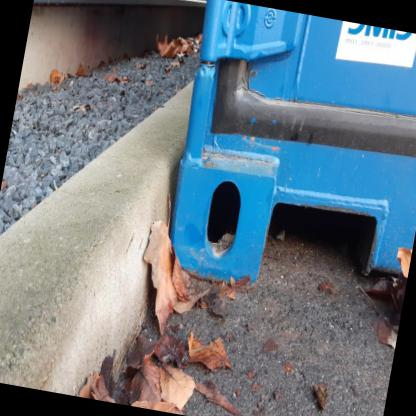CornerCasting: (153, 133, 287, 294)
